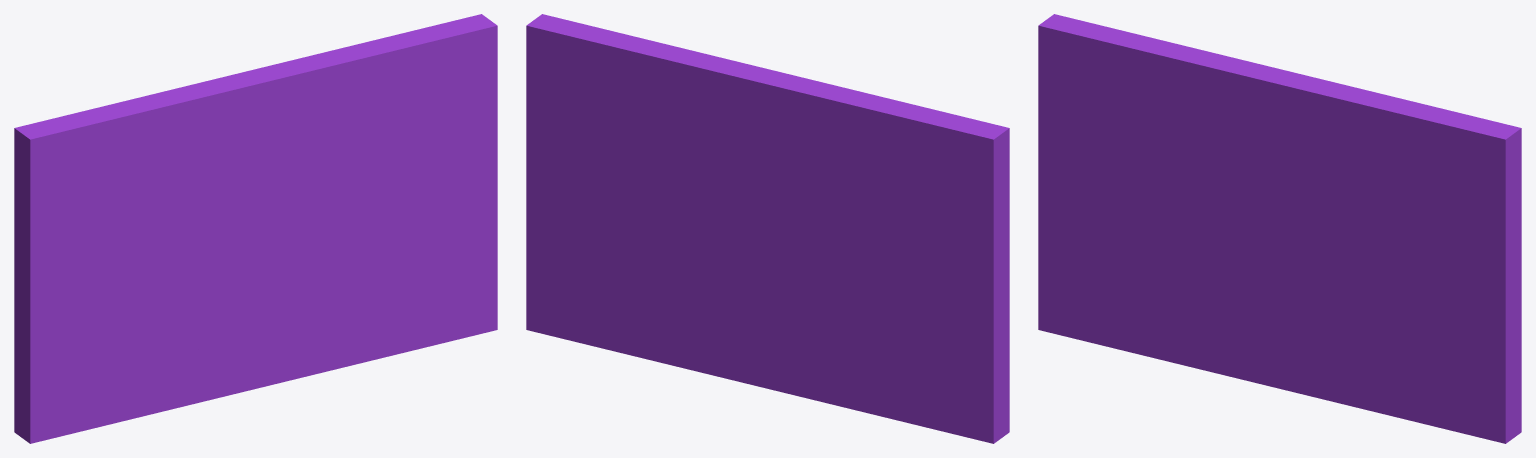
The model's file is Barrier_85_chunks.fbx.
3 views of the same model, side by side, from view 1: azimuth 30°, elevation 25°; view 2: azimuth 150°, elevation 25°; view 3: azimuth 330°, elevation 25° (orthographic).
Parts seen in each view (by area): view 1: Barrier_85_1, Barrier_85_2, Barrier_85_5, Barrier_85_3, Barrier_85_4, Barrier_85_6; view 2: Barrier_85_1, Barrier_85_2, Barrier_85_5, Barrier_85_4, Barrier_85_6, Barrier_85_0; view 3: Barrier_85_1, Barrier_85_2, Barrier_85_5, Barrier_85_3, Barrier_85_4, Barrier_85_6.
Boxes of the visible parts, bbox=[...] form: Barrier_85_1: bbox=[14, 88, 264, 443]; Barrier_85_2: bbox=[179, 14, 497, 233]; Barrier_85_5: bbox=[341, 198, 497, 352]; Barrier_85_3: bbox=[165, 255, 350, 406]; Barrier_85_4: bbox=[162, 306, 404, 411]; Barrier_85_6: bbox=[231, 220, 352, 293]; Barrier_85_1: bbox=[778, 87, 1009, 443]; Barrier_85_2: bbox=[526, 14, 841, 230]; Barrier_85_5: bbox=[526, 199, 681, 349]; Barrier_85_4: bbox=[606, 285, 863, 411]; Barrier_85_6: bbox=[661, 220, 827, 350]; Barrier_85_0: bbox=[730, 202, 790, 285]; Barrier_85_1: bbox=[1038, 14, 1273, 361]; Barrier_85_2: bbox=[1206, 54, 1521, 312]; Barrier_85_5: bbox=[1349, 264, 1521, 443]; Barrier_85_3: bbox=[1173, 277, 1358, 358]; Barrier_85_4: bbox=[1170, 348, 1412, 421]; Barrier_85_6: bbox=[1239, 234, 1360, 293].
Size of the model in its own units: 462 by 288 by 27.2.
